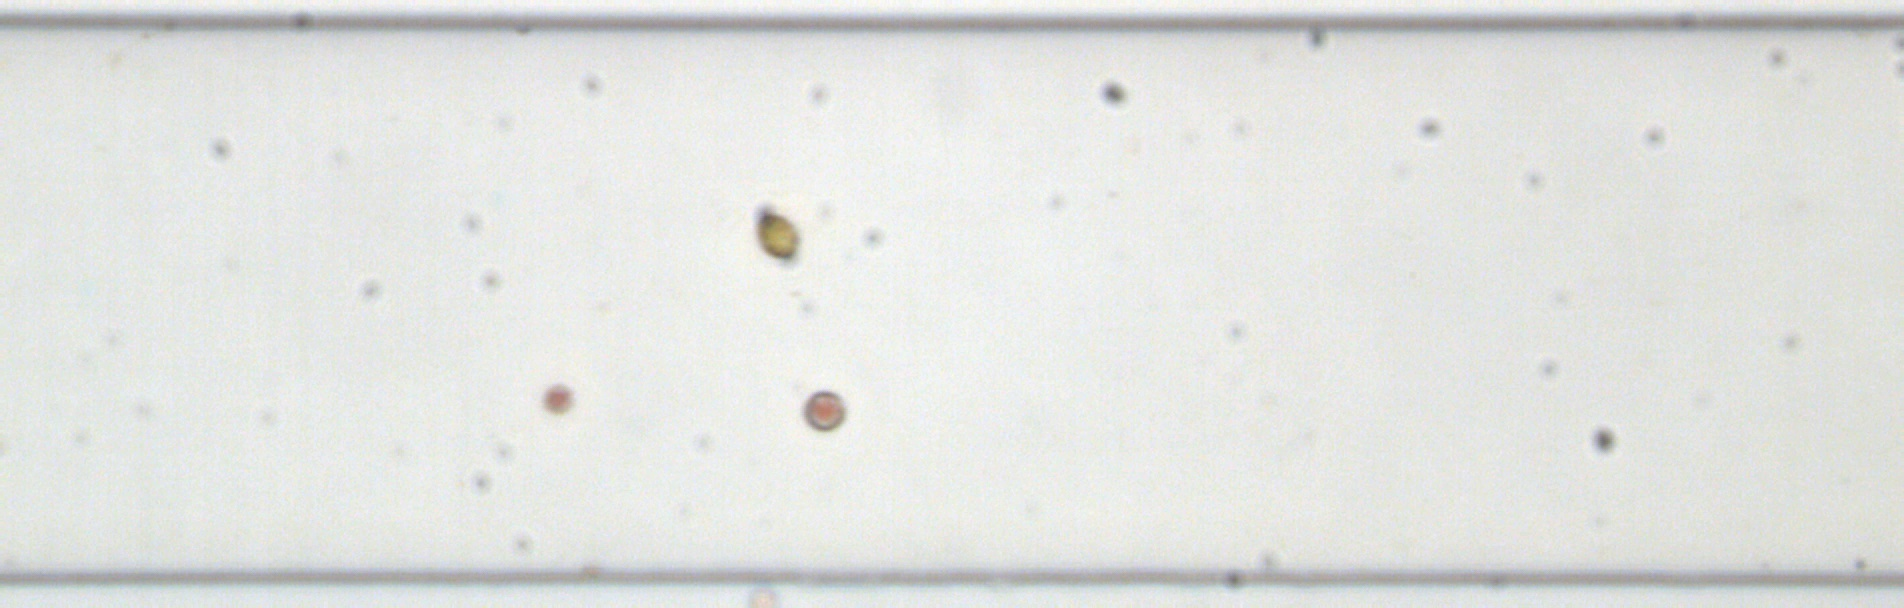Effrenium: (756, 208, 797, 265)
Porphyridium: (800, 390, 848, 433), (539, 380, 571, 411)
